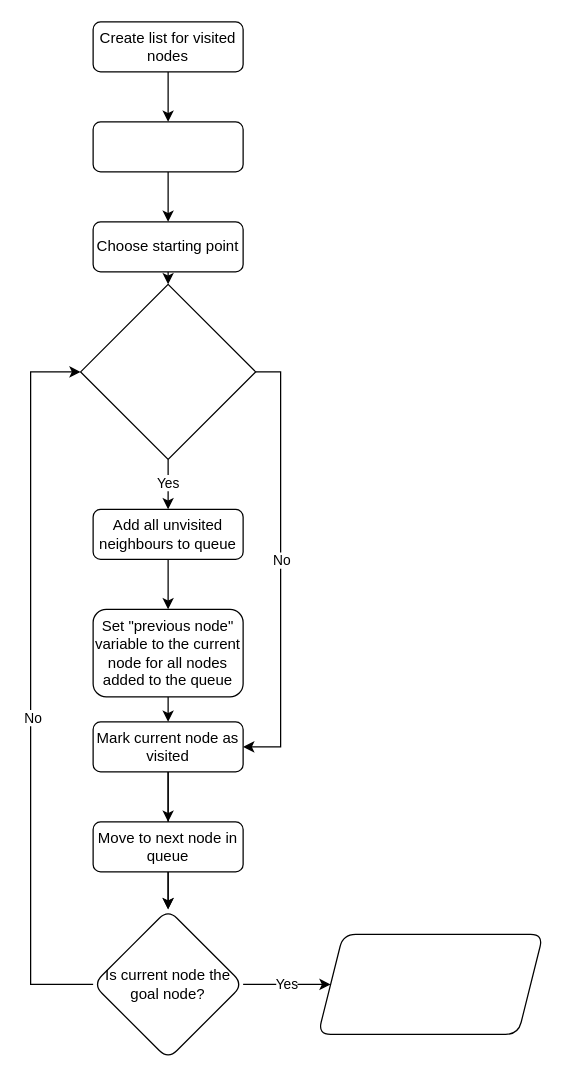
The diagram is 565 pixels wide and 1081 high, and some of its shapes have lost their labels. Each missing label, with the box of its shape:
Backtrack through "previous node" variables of the path and output as a list.: (317, 933, 543, 1034)
Create queue for nodes to search: (92, 121, 243, 172)
Does node have unvisited neighbours?: (79, 283, 256, 459)
